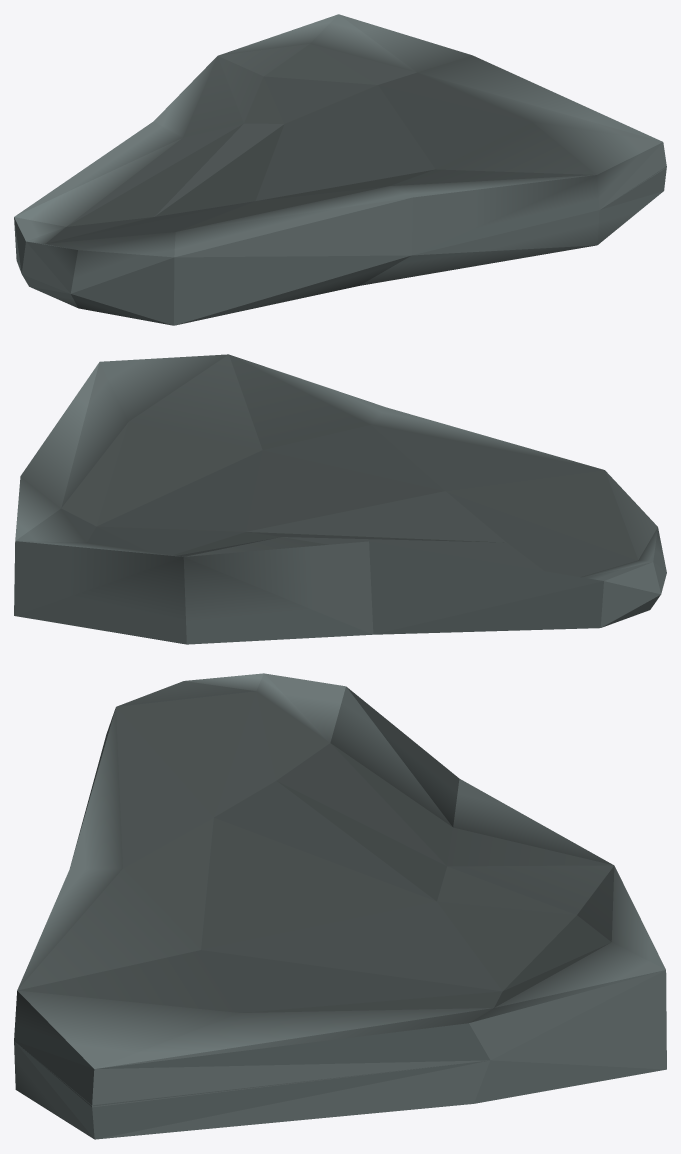
The model's file is SFI_Meat_Raw_001.fbx.
3 renders of one model, top to bottom at view 1: azimuth 30°, elevation 25°; view 2: azimuth 150°, elevation 25°; view 3: azimuth 270°, elevation 25°, orthographic. The views are drawn at different scales.
Parts seen in each view (by area): view 1: SFI_Meat_Raw_001; view 2: SFI_Meat_Raw_001; view 3: SFI_Meat_Raw_001.
Boxes of the visible parts, left/top/right/bottom form: SFI_Meat_Raw_001: left=14, top=14, right=666, bottom=325; SFI_Meat_Raw_001: left=14, top=354, right=666, bottom=644; SFI_Meat_Raw_001: left=14, top=673, right=666, bottom=1139.
Size of the model in its own units: 71.64 by 10.78 by 48.79.
